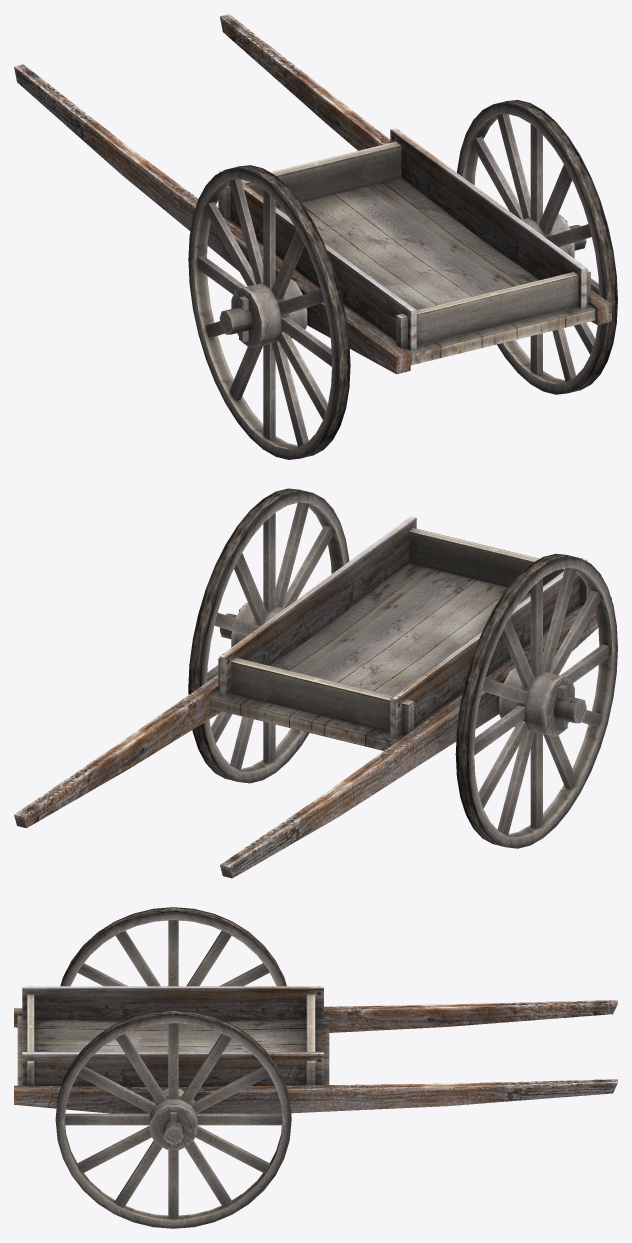
Rendered from cart.FBX.
The picture shows the model from 3 angles, top to bottom: view 1: azimuth 30°, elevation 25°; view 2: azimuth 150°, elevation 25°; view 3: azimuth 270°, elevation 25°; orthographic projection. The views are drawn at different scales.
Visible parts, largest first — view 1: cart_master; view 2: cart_master; view 3: cart_master.
Boxes of the visible parts, x1,y1,x2,y2 form: cart_master: [14, 14, 617, 459]; cart_master: [14, 488, 617, 878]; cart_master: [14, 907, 617, 1228].
Bounding box in the file's own units: 137 × 257 × 100.
